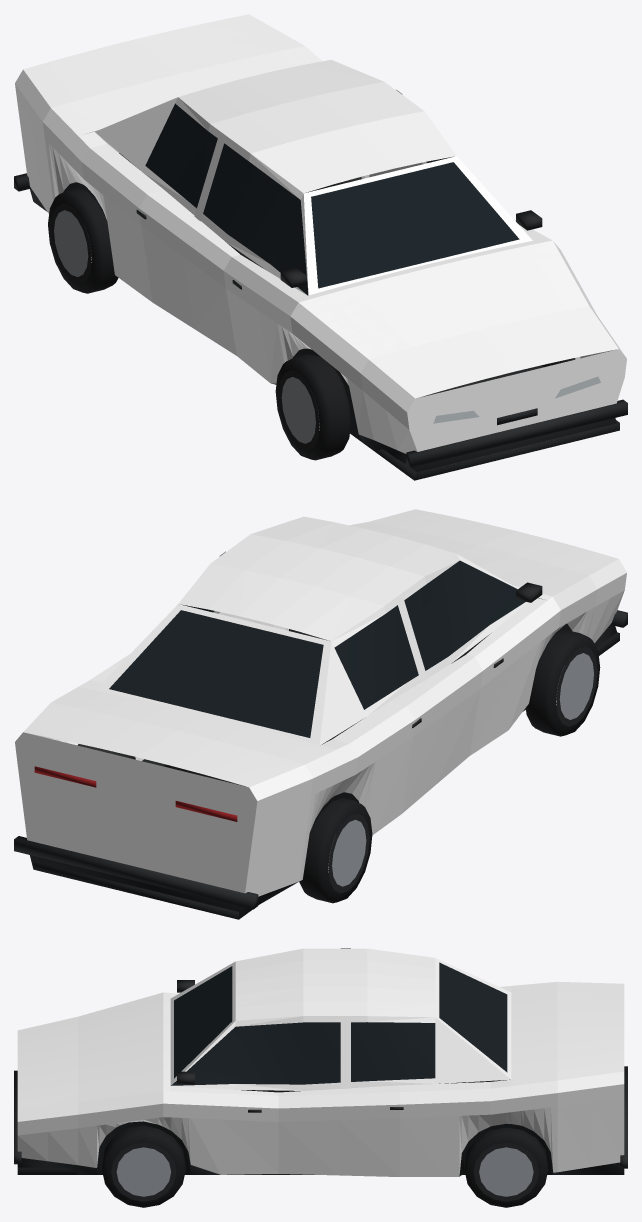
File: feldhaus_cais.glb
3 renders of one model, top to bottom at view 1: azimuth 30°, elevation 25°; view 2: azimuth 150°, elevation 25°; view 3: azimuth 270°, elevation 25°, orthographic. The views are drawn at different scales.
Parts seen in each view (by area): view 1: Body_Paint, Body_Details, Mount_FrontLeft_Wheel_Details, Mount_RearLeft_Wheel_Details; view 2: Body_Paint, Body_Details, Mount_FrontLeft_Wheel_Details, Mount_RearLeft_Wheel_Details; view 3: Body_Paint, Body_Details, Mount_FrontRight_Wheel_Details, Mount_RearRight_Wheel_Details.
Part boxes in pixels (x1,y1,x2,y2): Body_Paint: (15,14,626,453); Body_Details: (14,103,627,480); Mount_FrontLeft_Wheel_Details: (275,354,351,460); Mount_RearLeft_Wheel_Details: (48,188,118,293); Body_Paint: (15,509,626,896); Body_Details: (14,560,627,919); Mount_FrontLeft_Wheel_Details: (525,629,600,736); Mount_RearLeft_Wheel_Details: (299,797,372,903); Body_Paint: (17,948,624,1176); Body_Details: (14,962,627,1176); Mount_FrontRight_Wheel_Details: (102,1125,185,1207); Mount_RearRight_Wheel_Details: (464,1127,548,1207).
Size of the model in its own units: 1.85 by 1.41 by 4.45.
2 materials, 1 textured.
